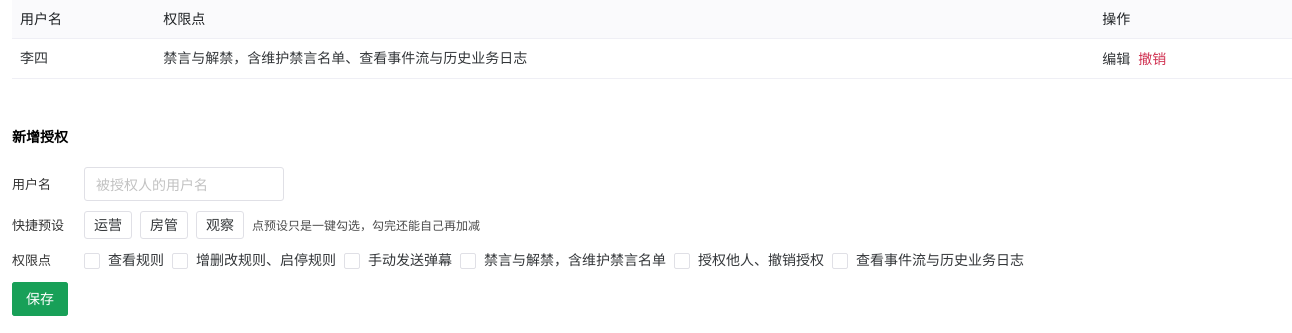
Test: MemberEditor 编辑与撤销 › 点「编辑」后用户名输入框禁用并回填该成员的权限点勾选
Click the button "编辑" at (1116, 59), box [1102, 52, 1130, 66]
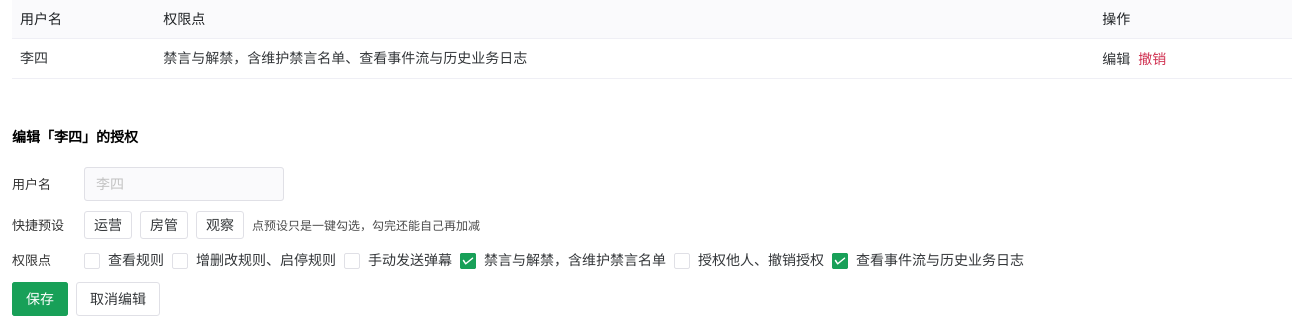
Now the field with placeholder "被授权人的用户名" holds "李四", box [96, 167, 272, 201]
Now the field with placeholder "被授权人的用户名" is disabled, box [96, 167, 272, 201]
